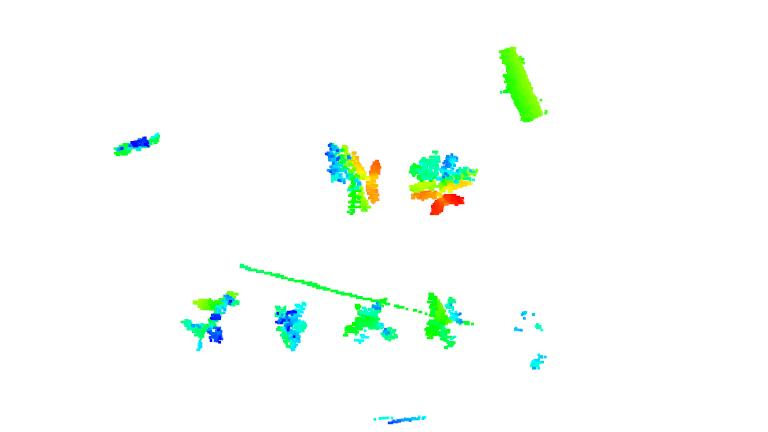chickpea: (405, 150, 480, 219), (326, 139, 387, 214), (176, 290, 242, 351), (421, 289, 470, 348), (340, 300, 398, 345), (271, 301, 313, 351), (110, 127, 162, 161)
